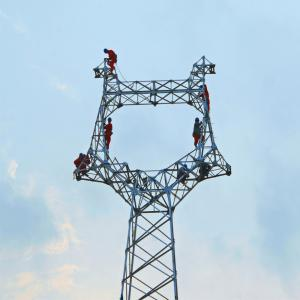blue: (79, 153, 84, 160), (108, 118, 113, 124), (105, 49, 110, 55), (196, 118, 201, 123), (184, 165, 189, 170)
